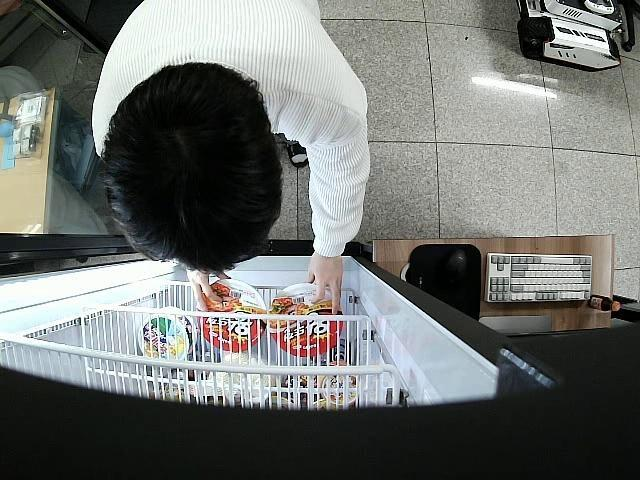10_wangTtukkeong: (270, 285, 344, 356), (198, 280, 268, 354)
